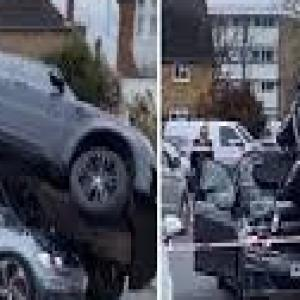fatal: (181, 3, 300, 300)
severe: (0, 28, 164, 300)
